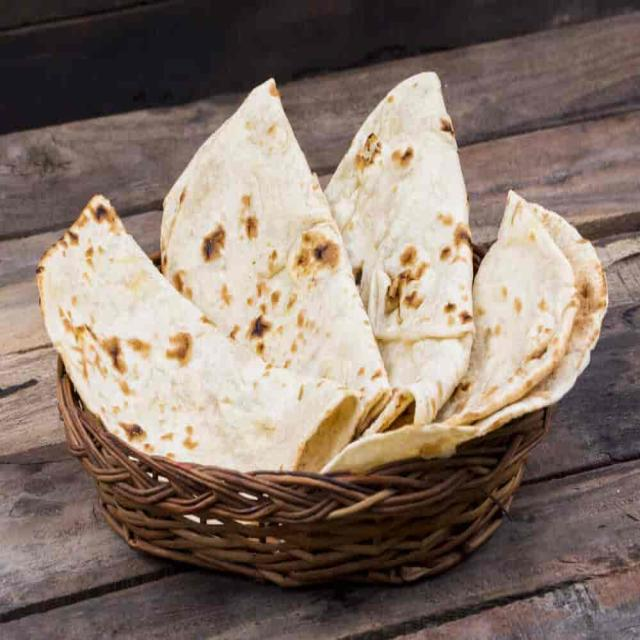ROTI: (34, 196, 353, 475), (331, 183, 609, 472), (160, 84, 393, 392), (332, 67, 476, 432)
